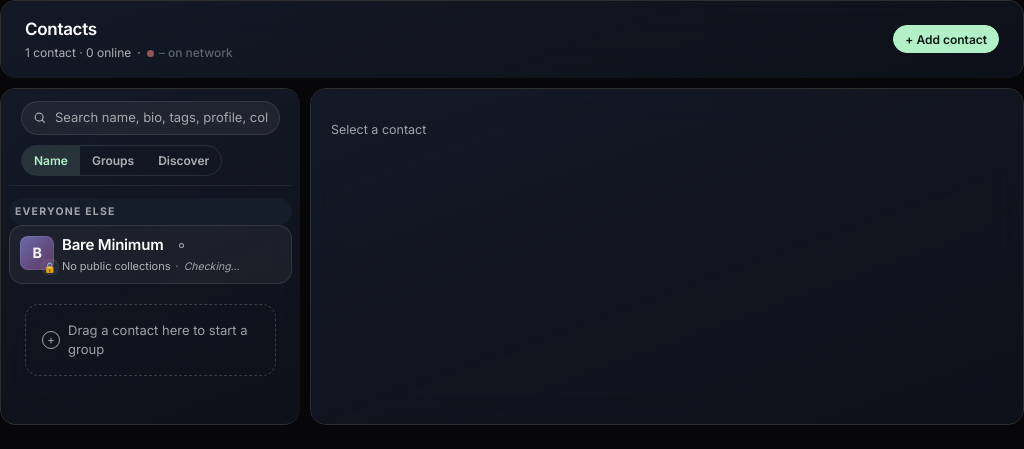
devtest item 3 — the chevron panel is the REST of the profile › an empty profile is stated, not hidden (ruling 03)
What coordinates should you click on to do the following:
click the option with class "contact-card"
I would click on:
 (150, 255)
Its box is [9,226,292,284].
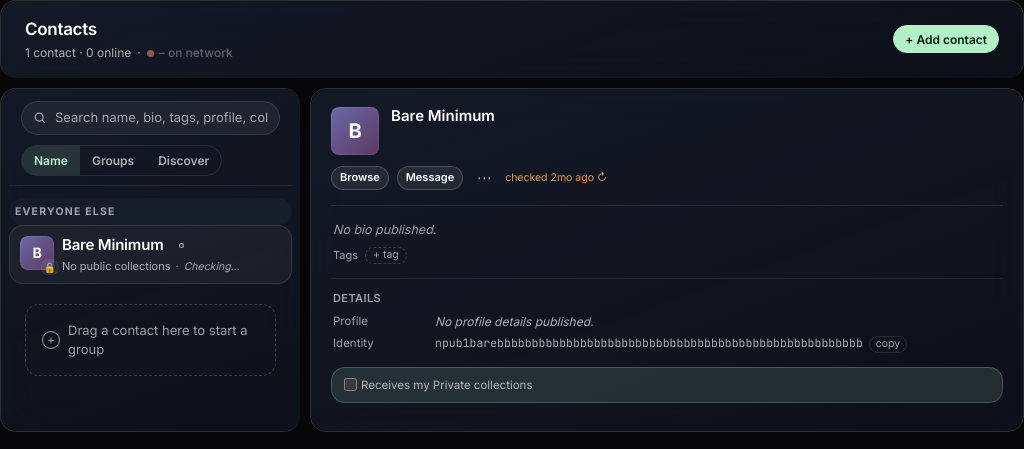
Now the element with class "detail-scroll" is shown, box [331,205,1003,407]
Now the element with class "detail-scroll" shows "No profile details published.", box [435,314,594,329]
